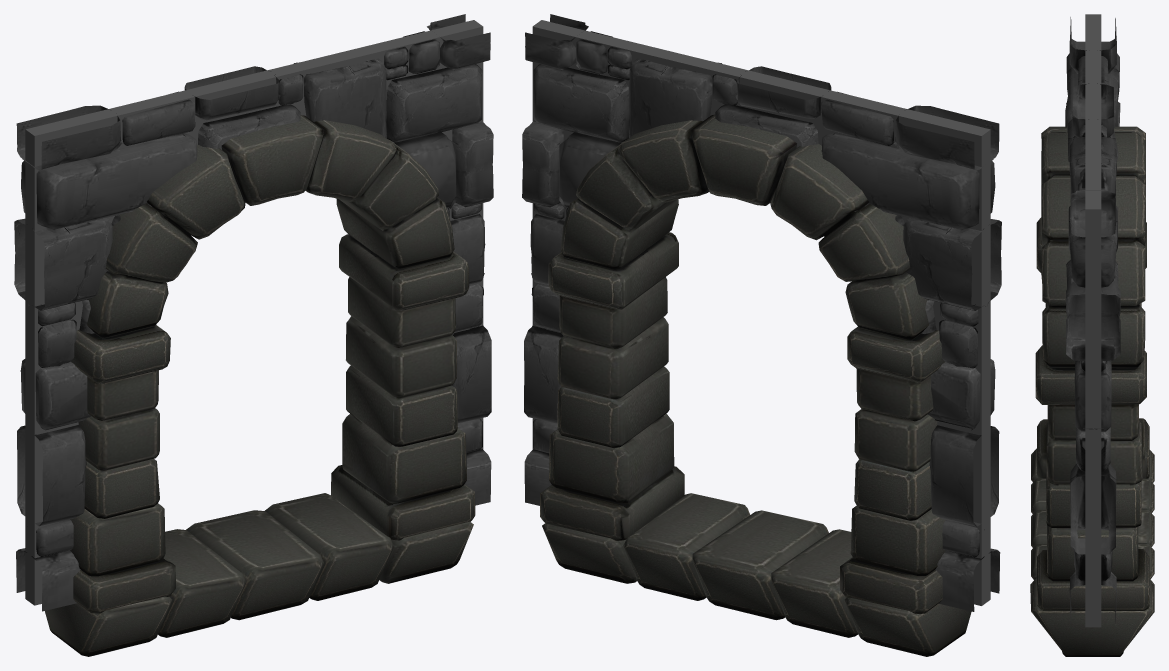
The model's file is Arch_05.fbx.
3 renders of one model, left to right at view 1: azimuth 30°, elevation 25°; view 2: azimuth 150°, elevation 25°; view 3: azimuth 270°, elevation 25°, orthographic. The views are drawn at different scales.
Visible parts, largest first — view 1: Arch_05; view 2: Arch_05; view 3: Arch_05.
Part boxes in pixels (bbox=[...]): Arch_05: bbox=[14, 14, 493, 656]; Arch_05: bbox=[522, 14, 1001, 656]; Arch_05: bbox=[1030, 14, 1154, 656].
Size of the model in its own units: 302 by 334 by 80.96.
